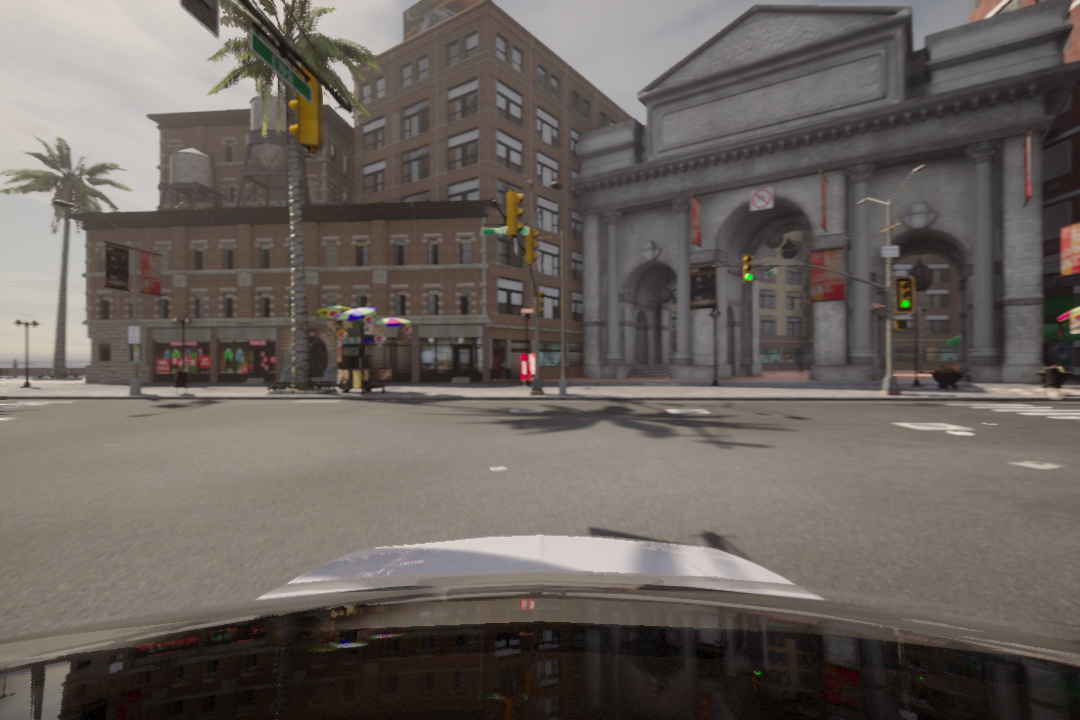TrafficLight: (507, 188, 523, 242), (524, 228, 541, 265), (897, 277, 914, 314), (740, 251, 755, 284)
TrafficSign: (747, 185, 774, 211)
